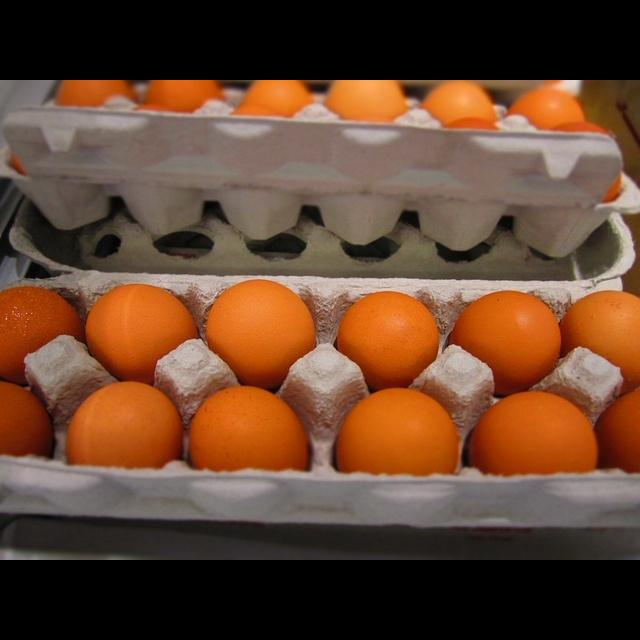egg: (205, 278, 316, 388), (449, 290, 561, 394), (85, 283, 198, 383), (335, 387, 460, 475), (469, 390, 598, 475), (188, 385, 309, 472), (65, 380, 183, 469), (336, 290, 439, 389), (559, 289, 639, 393), (0, 285, 84, 383), (0, 380, 54, 457), (594, 388, 639, 473), (421, 80, 497, 127), (324, 80, 408, 122), (506, 85, 585, 129), (240, 80, 314, 117), (145, 80, 222, 112), (54, 80, 135, 107)
